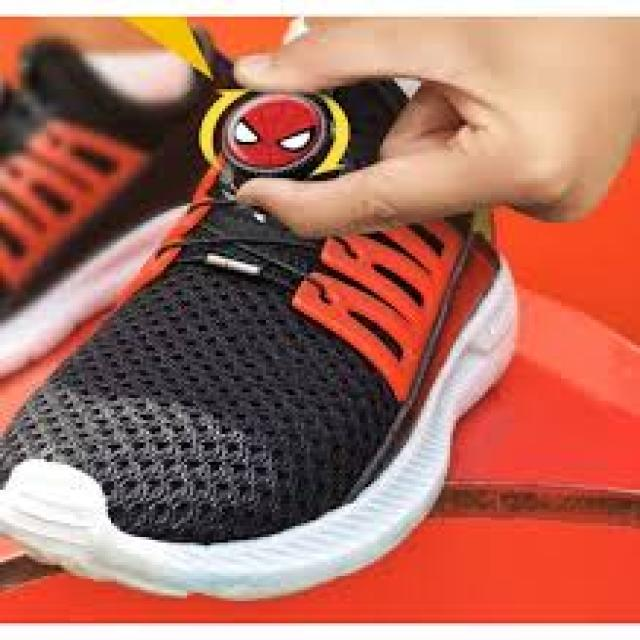shoe: (37, 46, 524, 594)
